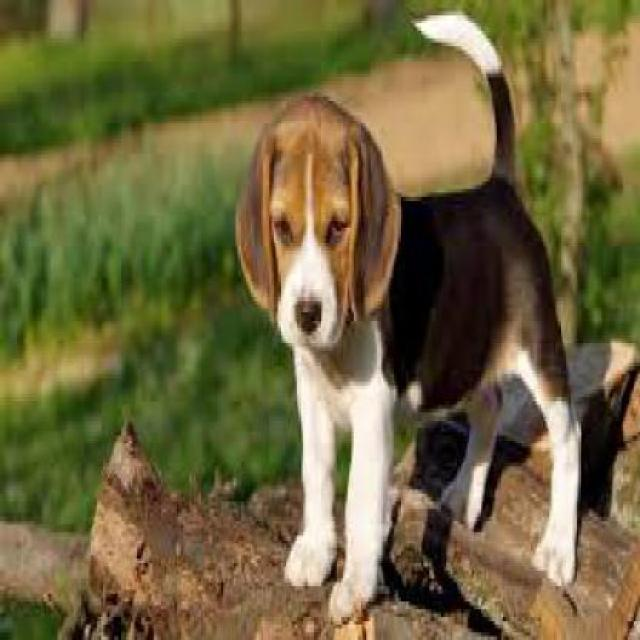Dog: (229, 9, 585, 620)
